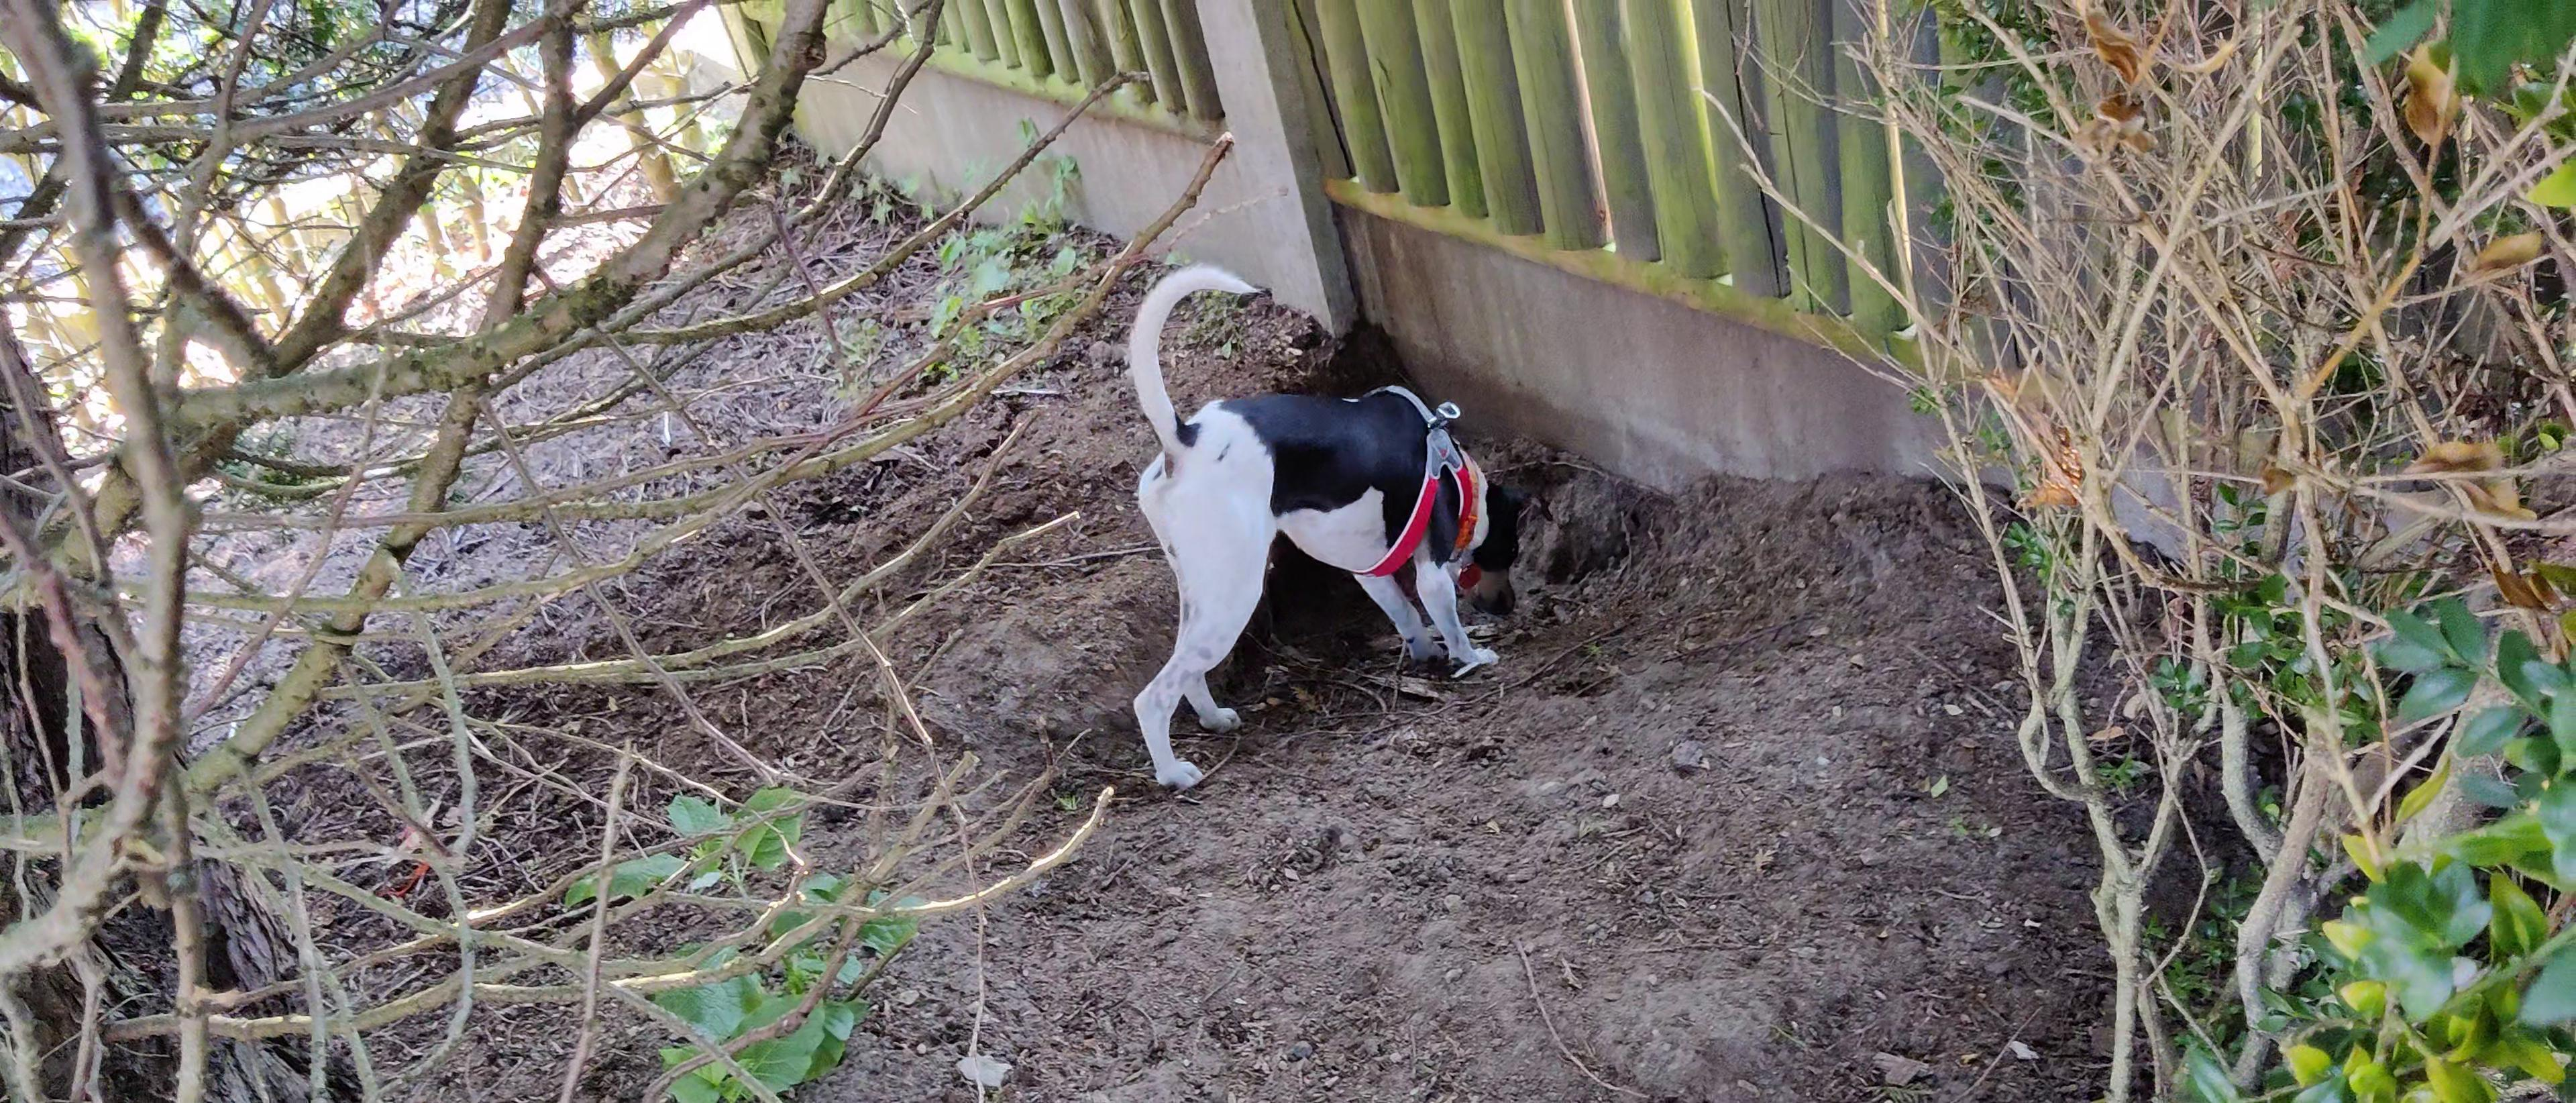Dog: (1099, 253, 1557, 817)
